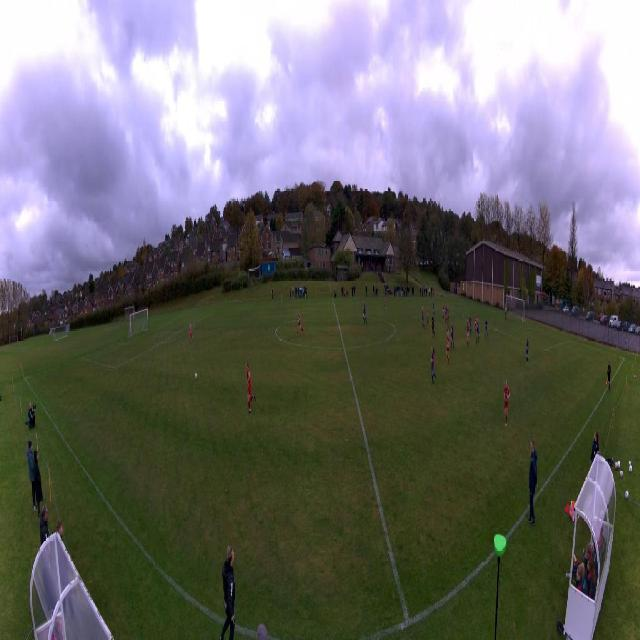ball: (195, 372, 197, 379)
player: (245, 361, 256, 413), (503, 379, 511, 427), (296, 310, 305, 337), (430, 347, 436, 383), (446, 332, 450, 361), (451, 322, 455, 350), (188, 324, 194, 342), (431, 312, 435, 338), (363, 301, 367, 326), (469, 312, 473, 337), (526, 339, 530, 363), (466, 324, 470, 346), (476, 323, 480, 345), (421, 307, 425, 328), (485, 319, 489, 340), (426, 306, 429, 327), (475, 313, 478, 333), (442, 303, 445, 322), (384, 294, 387, 309), (447, 310, 449, 327), (445, 305, 447, 322), (433, 301, 435, 316), (505, 306, 507, 321)
